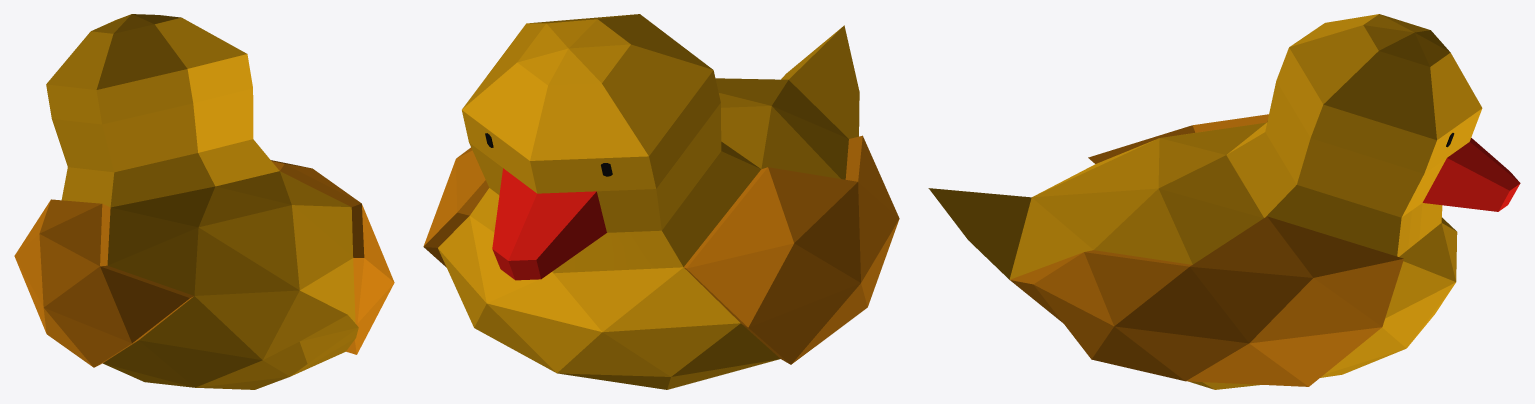
The model's file is Rubber Duck.fbx.
3 views of the same model, side by side, from view 1: azimuth 30°, elevation 25°; view 2: azimuth 150°, elevation 25°; view 3: azimuth 270°, elevation 25° (orthographic). The views are drawn at different scales.
Visible parts, largest first — view 1: Rubber Duck; view 2: Rubber Duck; view 3: Rubber Duck.
Boxes of the visible parts, left/top/right/bottom form: Rubber Duck: left=14, top=14, right=394, bottom=389; Rubber Duck: left=423, top=14, right=899, bottom=389; Rubber Duck: left=928, top=14, right=1520, bottom=389.
Bounding box in the file's own units: 0.3057 × 0.1855 × 0.2127.
